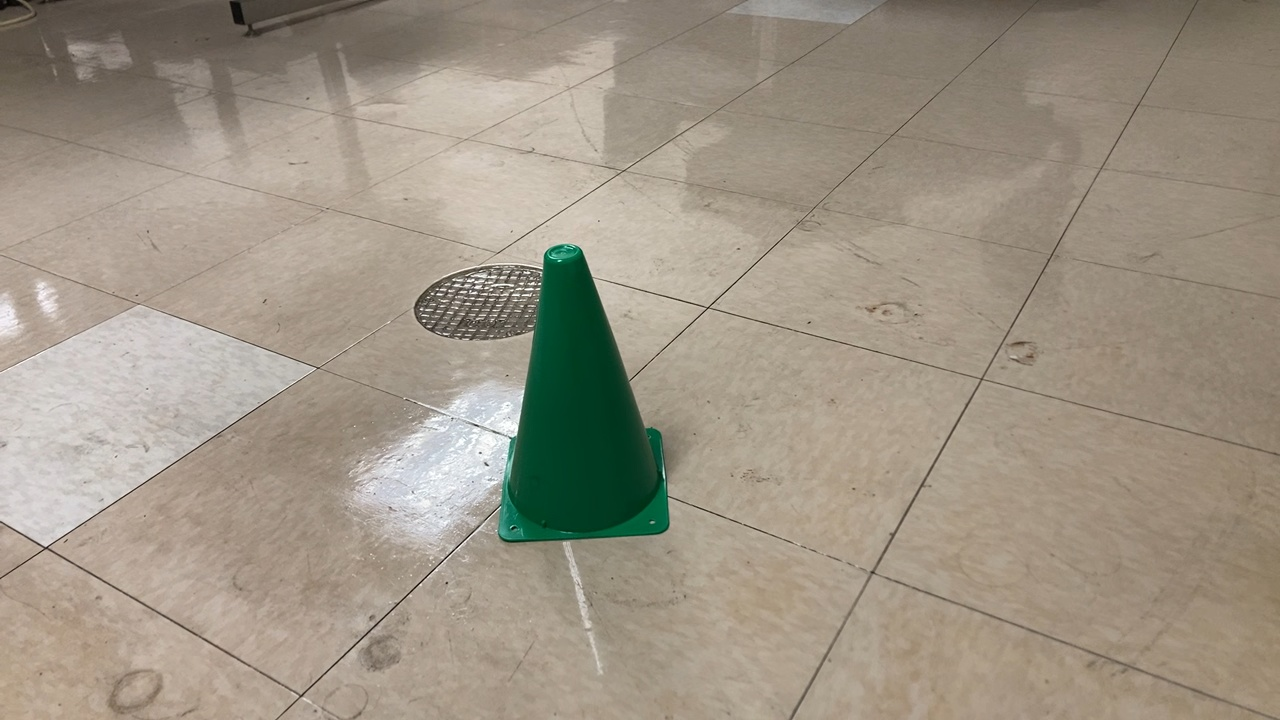green_cone: (488, 241, 677, 545)
